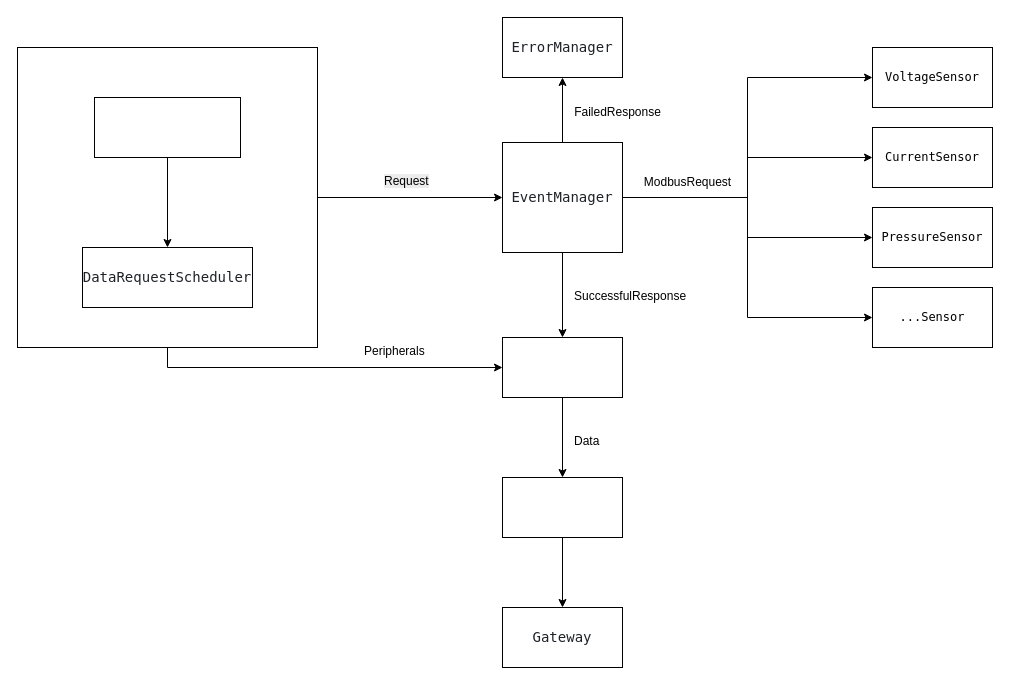
The diagram is 1010 pixels wide and 685 high, and some of its shapes have lost their labels. Here are the shapes that lost their labels. From the top down, the box of each, then its label:
(94, 96, 240, 158): PeripheralManager
(502, 336, 622, 398): DataFormatter
(502, 476, 622, 538): LoRaWANManager
